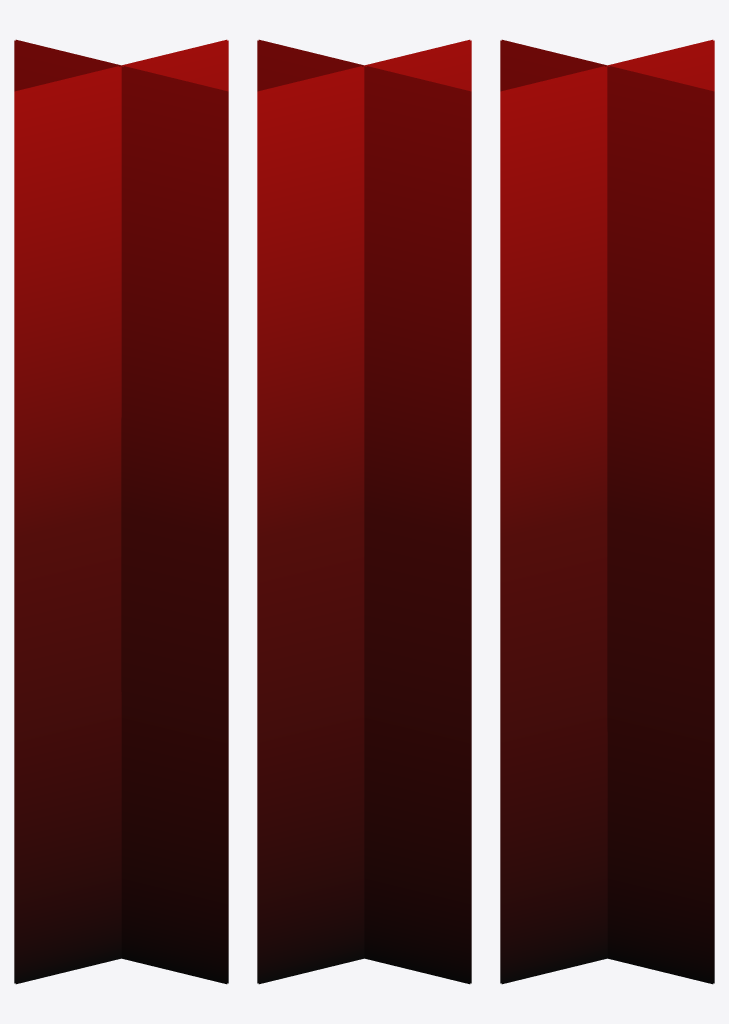
Rendered from TinyW11_AFS_high.FBX.
3 renders of one model, left to right at view 1: azimuth 30°, elevation 25°; view 2: azimuth 150°, elevation 25°; view 3: azimuth 270°, elevation 25°, orthographic.
Parts seen in each view (by area): view 1: TinyW11_AFS_high; view 2: TinyW11_AFS_high; view 3: TinyW11_AFS_high.
Part boxes in pixels (x1,y1,x2,y2): TinyW11_AFS_high: (14, 39, 228, 984); TinyW11_AFS_high: (257, 39, 471, 984); TinyW11_AFS_high: (500, 39, 714, 984).
Size of the model in its own units: 0.16 by 0.64 by 0.1394.
